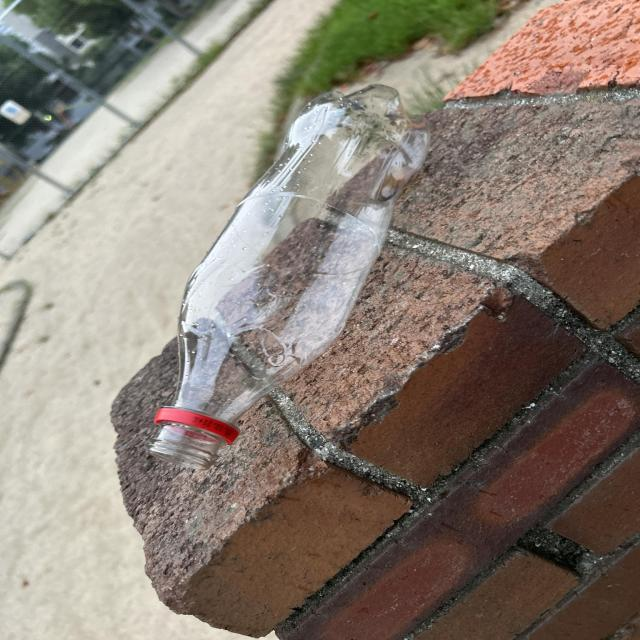empty: (147, 85, 429, 469)
